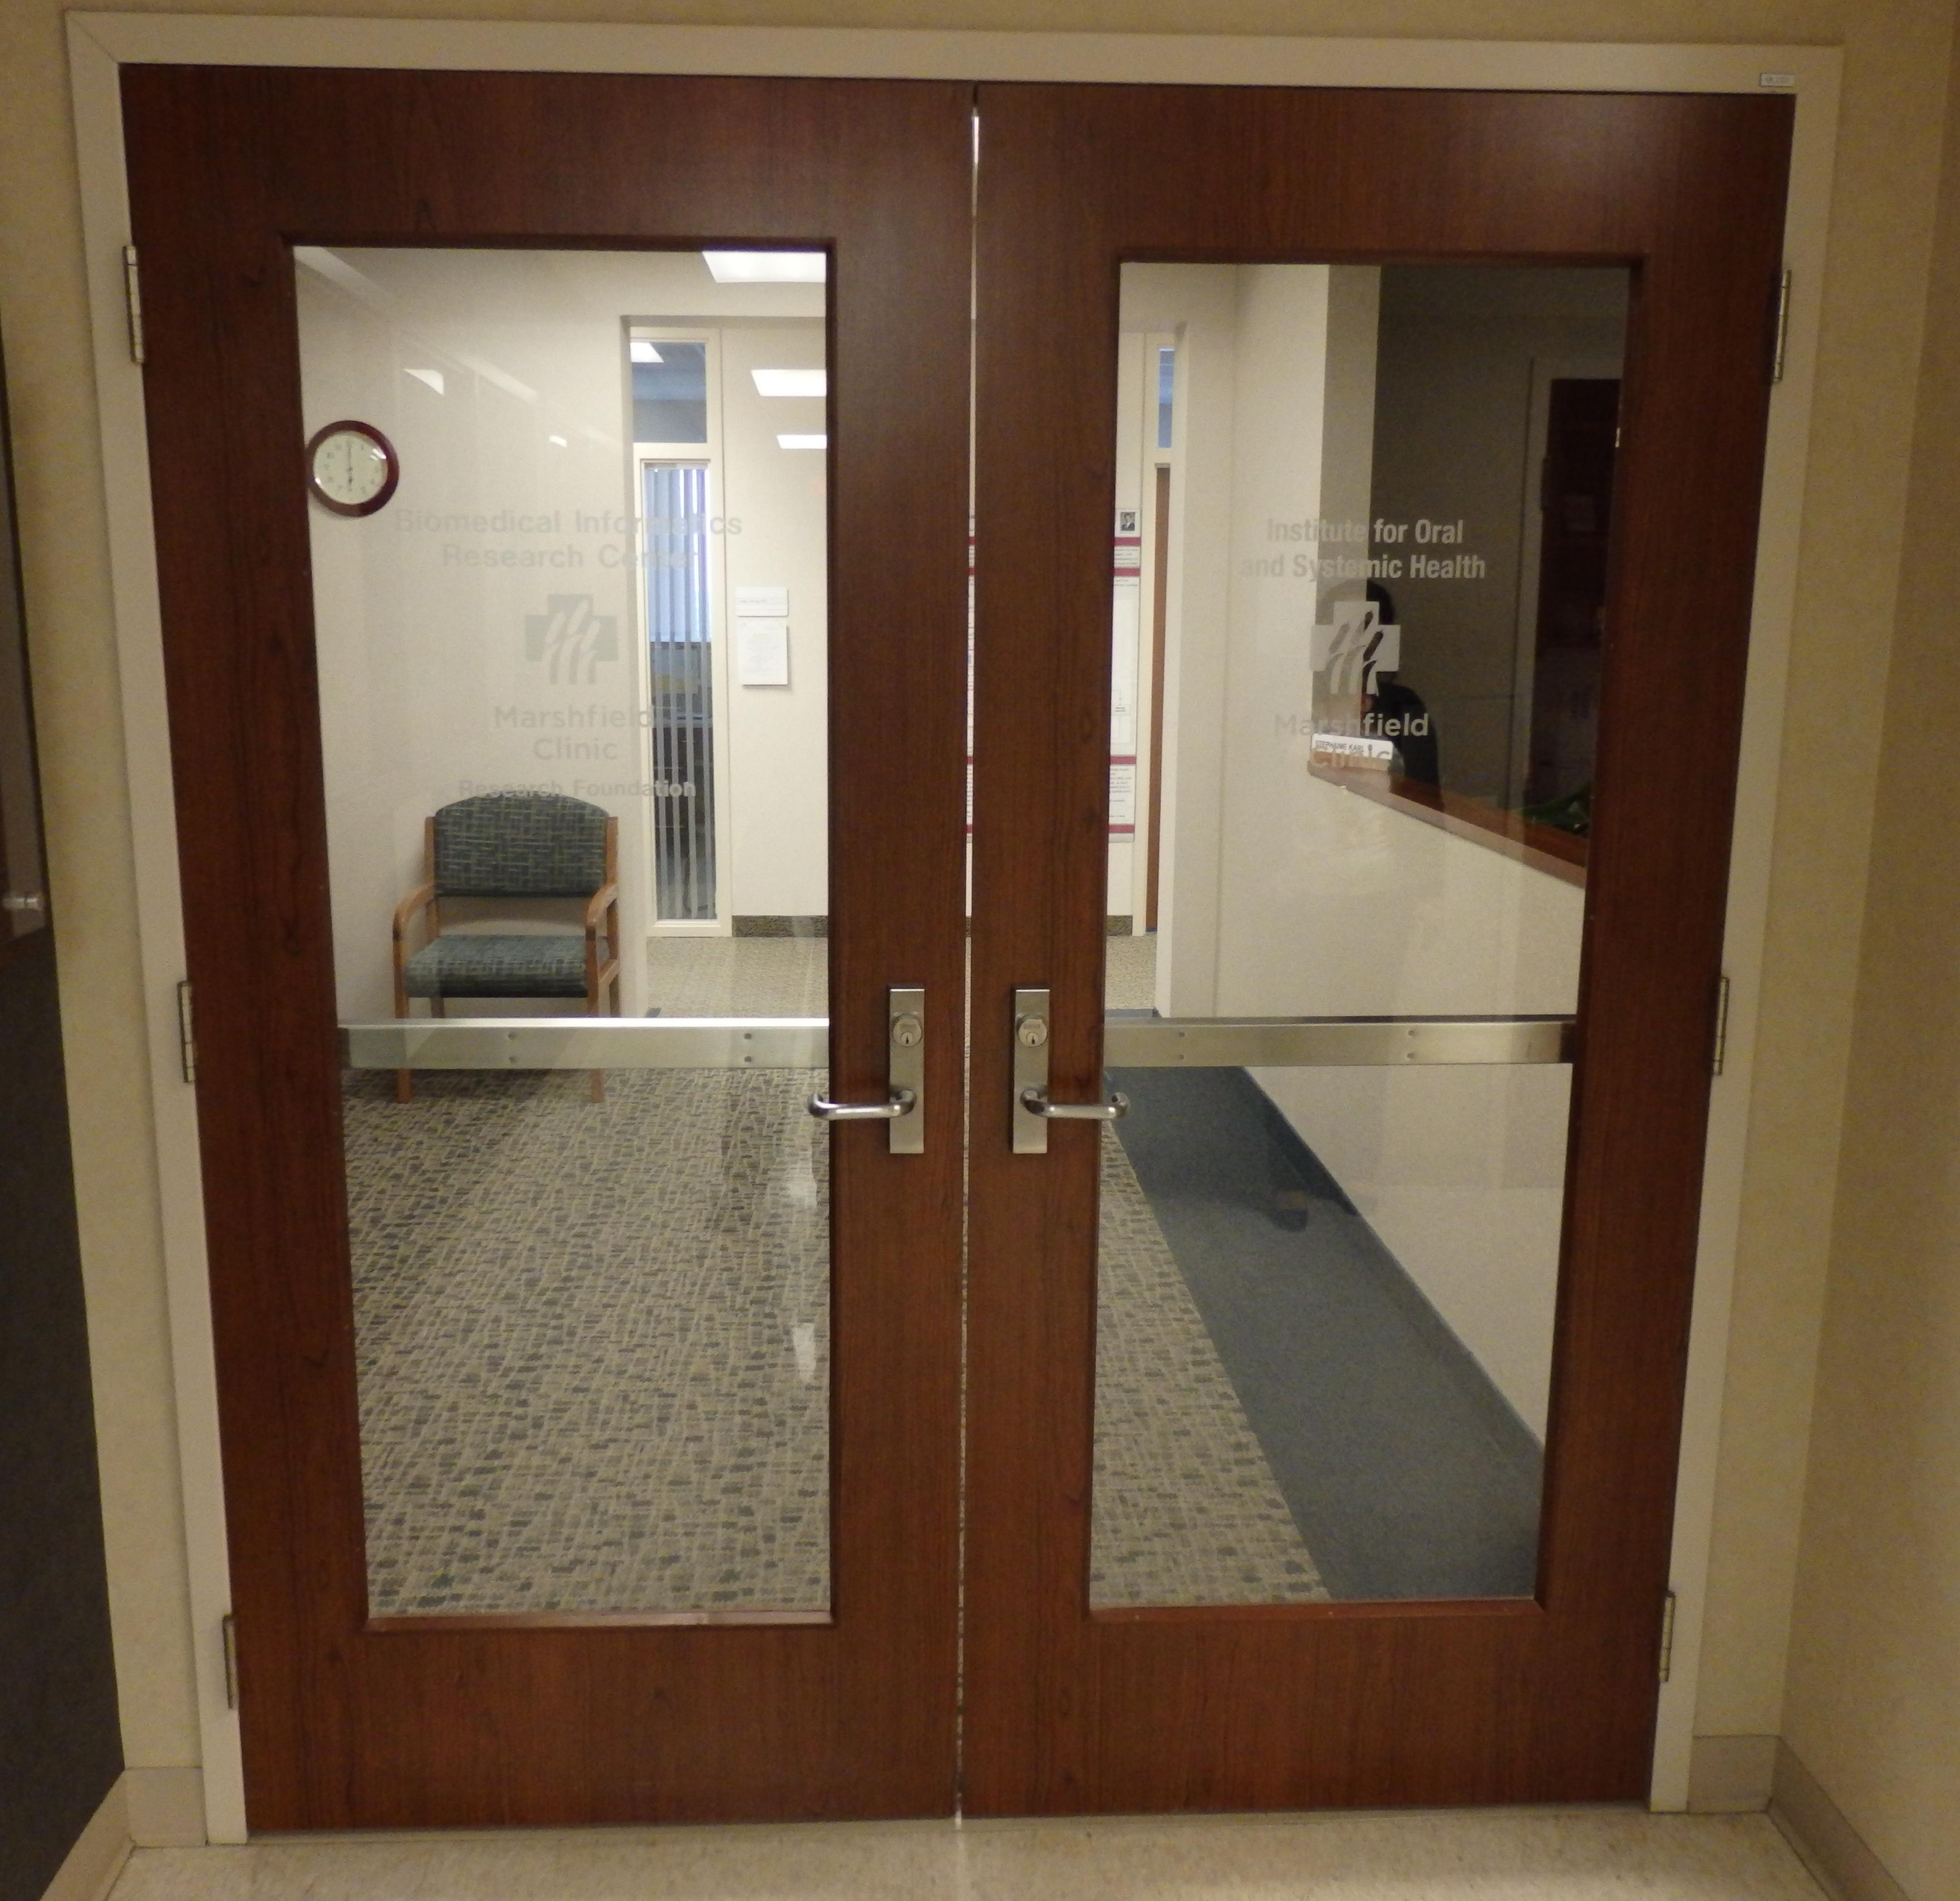door: (84, 26, 1713, 1812)
